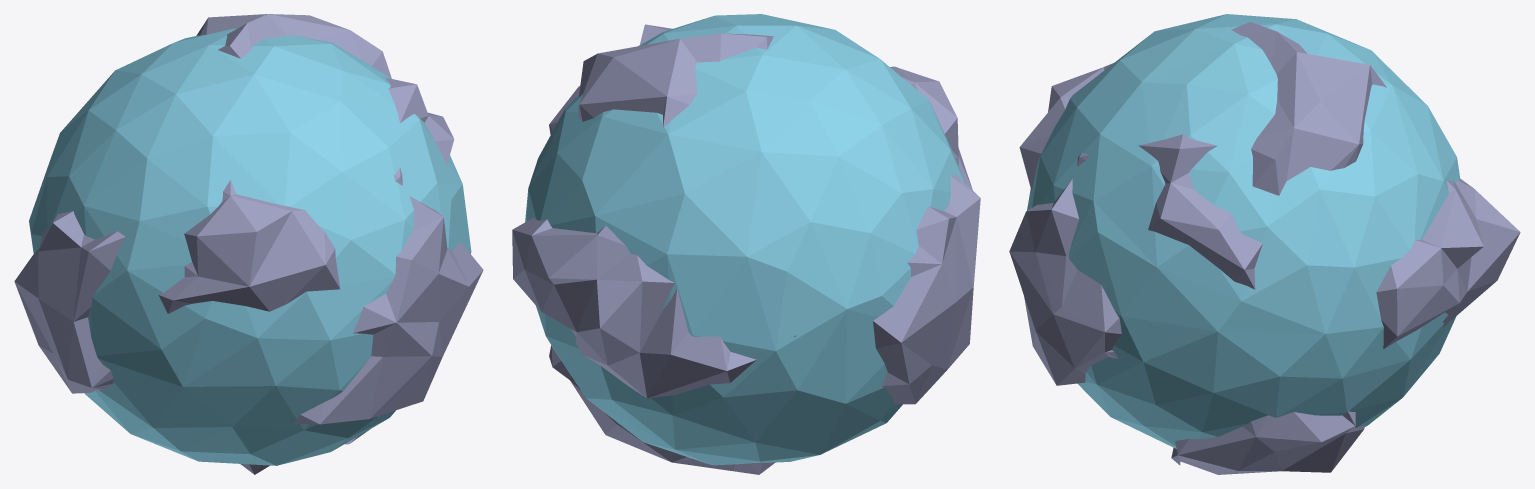
The model's file is icy_planet2.fbx.
The picture shows the model from 3 angles, left to right: view 1: azimuth 30°, elevation 25°; view 2: azimuth 150°, elevation 25°; view 3: azimuth 270°, elevation 25°; orthographic projection. The views are drawn at different scales.
Visible parts, largest first — view 1: icy_planet2; view 2: icy_planet2; view 3: icy_planet2.
Part boxes in pixels (x1,y1,x2,y2): icy_planet2: [14, 14, 483, 474]; icy_planet2: [512, 14, 980, 474]; icy_planet2: [1009, 14, 1520, 474].
Size of the model in its own units: 211 by 216 by 229.
